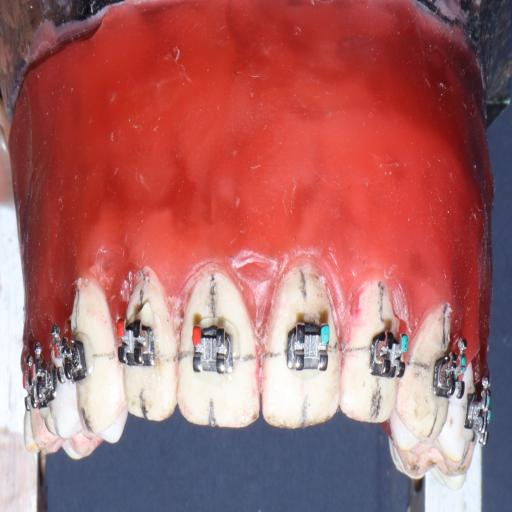incorrect_brace: (282, 312, 332, 379), (187, 319, 238, 380)
